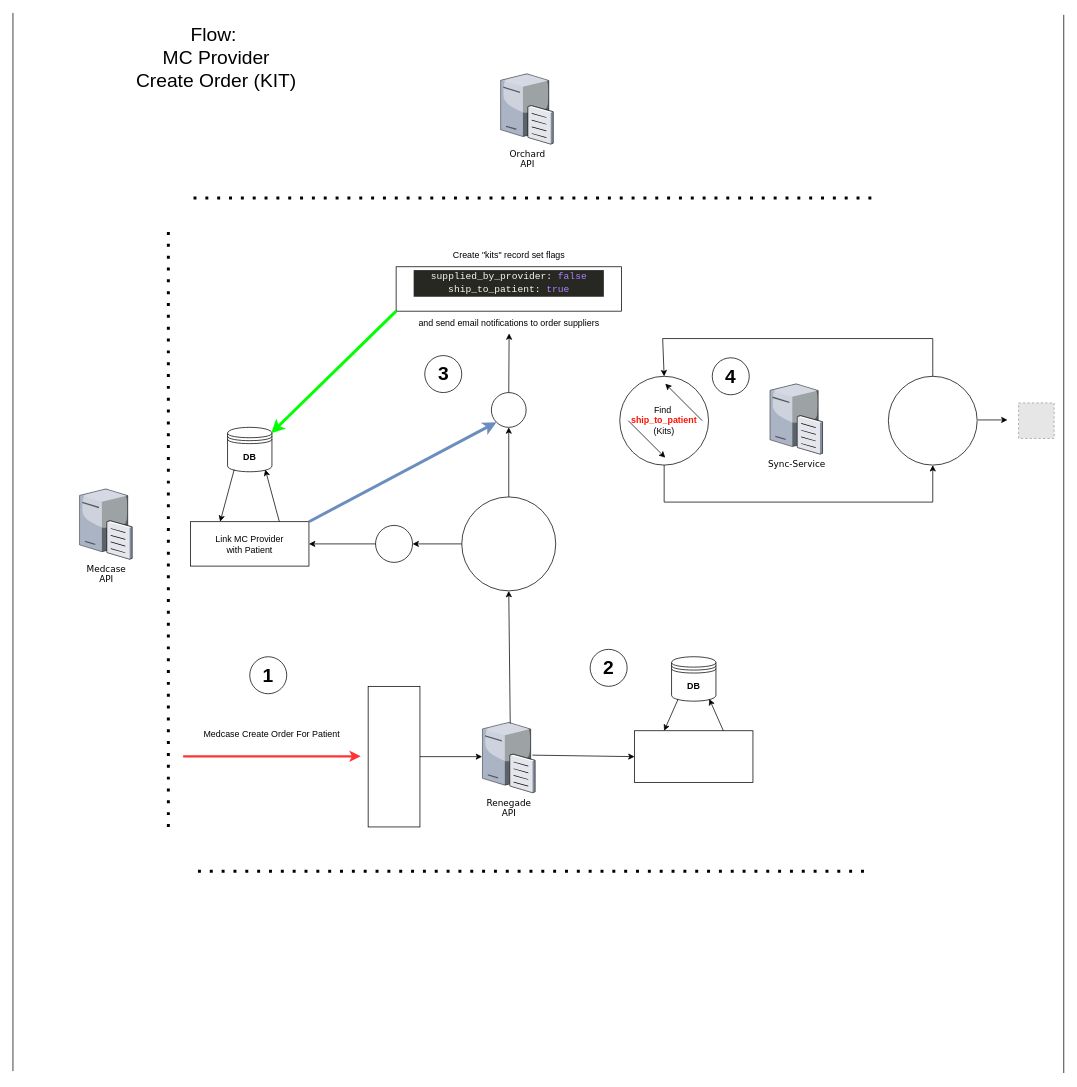
This 1077x1087 diagram has some shape labels left out. Grey dashed boxes stand in for pictures. Each missing label, with the box of its shape:
Create Order (KIT) With flag ship_to_patient: (634, 730, 753, 783)
Is provider linked with patient ?: (461, 496, 556, 591)
MC WebHooks: (367, 686, 420, 827)
No: (375, 525, 413, 562)
Send Email Notifications: (888, 376, 977, 465)
YES: (491, 392, 526, 427)
